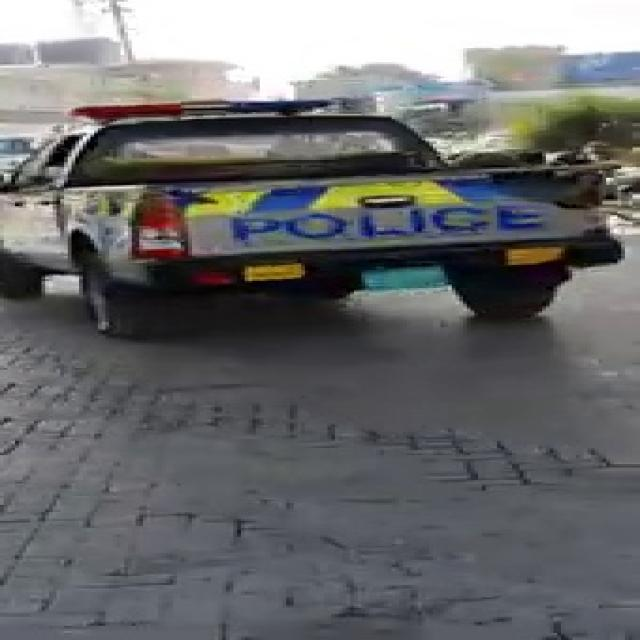police: (5, 125, 598, 332)
